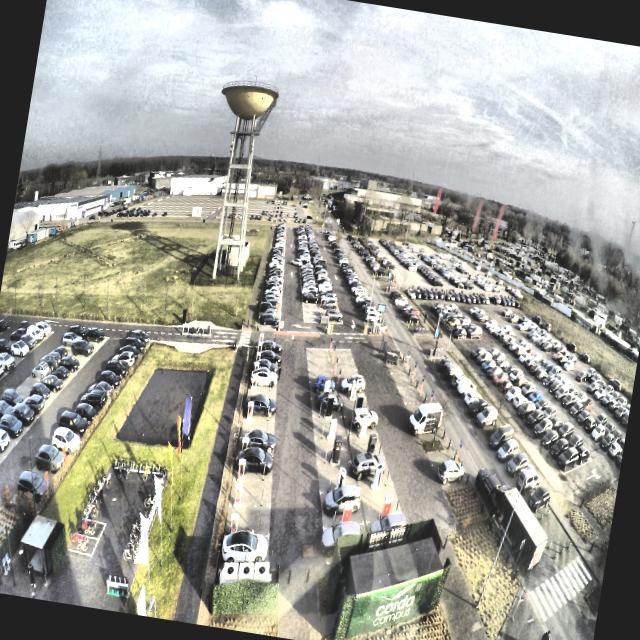cabinet: (223, 562, 269, 577)
car: (221, 531, 269, 565), (237, 448, 275, 472), (243, 393, 278, 418), (242, 430, 277, 453), (251, 368, 278, 388), (256, 350, 283, 367), (261, 339, 283, 356), (252, 359, 279, 370)
parking: (219, 535, 269, 571), (225, 505, 270, 537), (230, 480, 272, 506), (234, 458, 273, 480), (237, 438, 274, 458), (241, 420, 274, 437), (243, 404, 275, 421), (248, 375, 276, 391), (246, 391, 276, 405), (251, 363, 278, 377), (254, 346, 279, 355), (253, 355, 279, 362)
supercharger: (229, 514, 240, 537), (234, 486, 243, 507), (238, 459, 246, 475), (242, 438, 250, 454), (245, 420, 252, 437), (247, 403, 253, 420), (251, 375, 258, 389), (250, 388, 255, 403), (254, 362, 259, 374), (259, 334, 264, 344), (257, 343, 262, 353), (256, 352, 261, 361)
